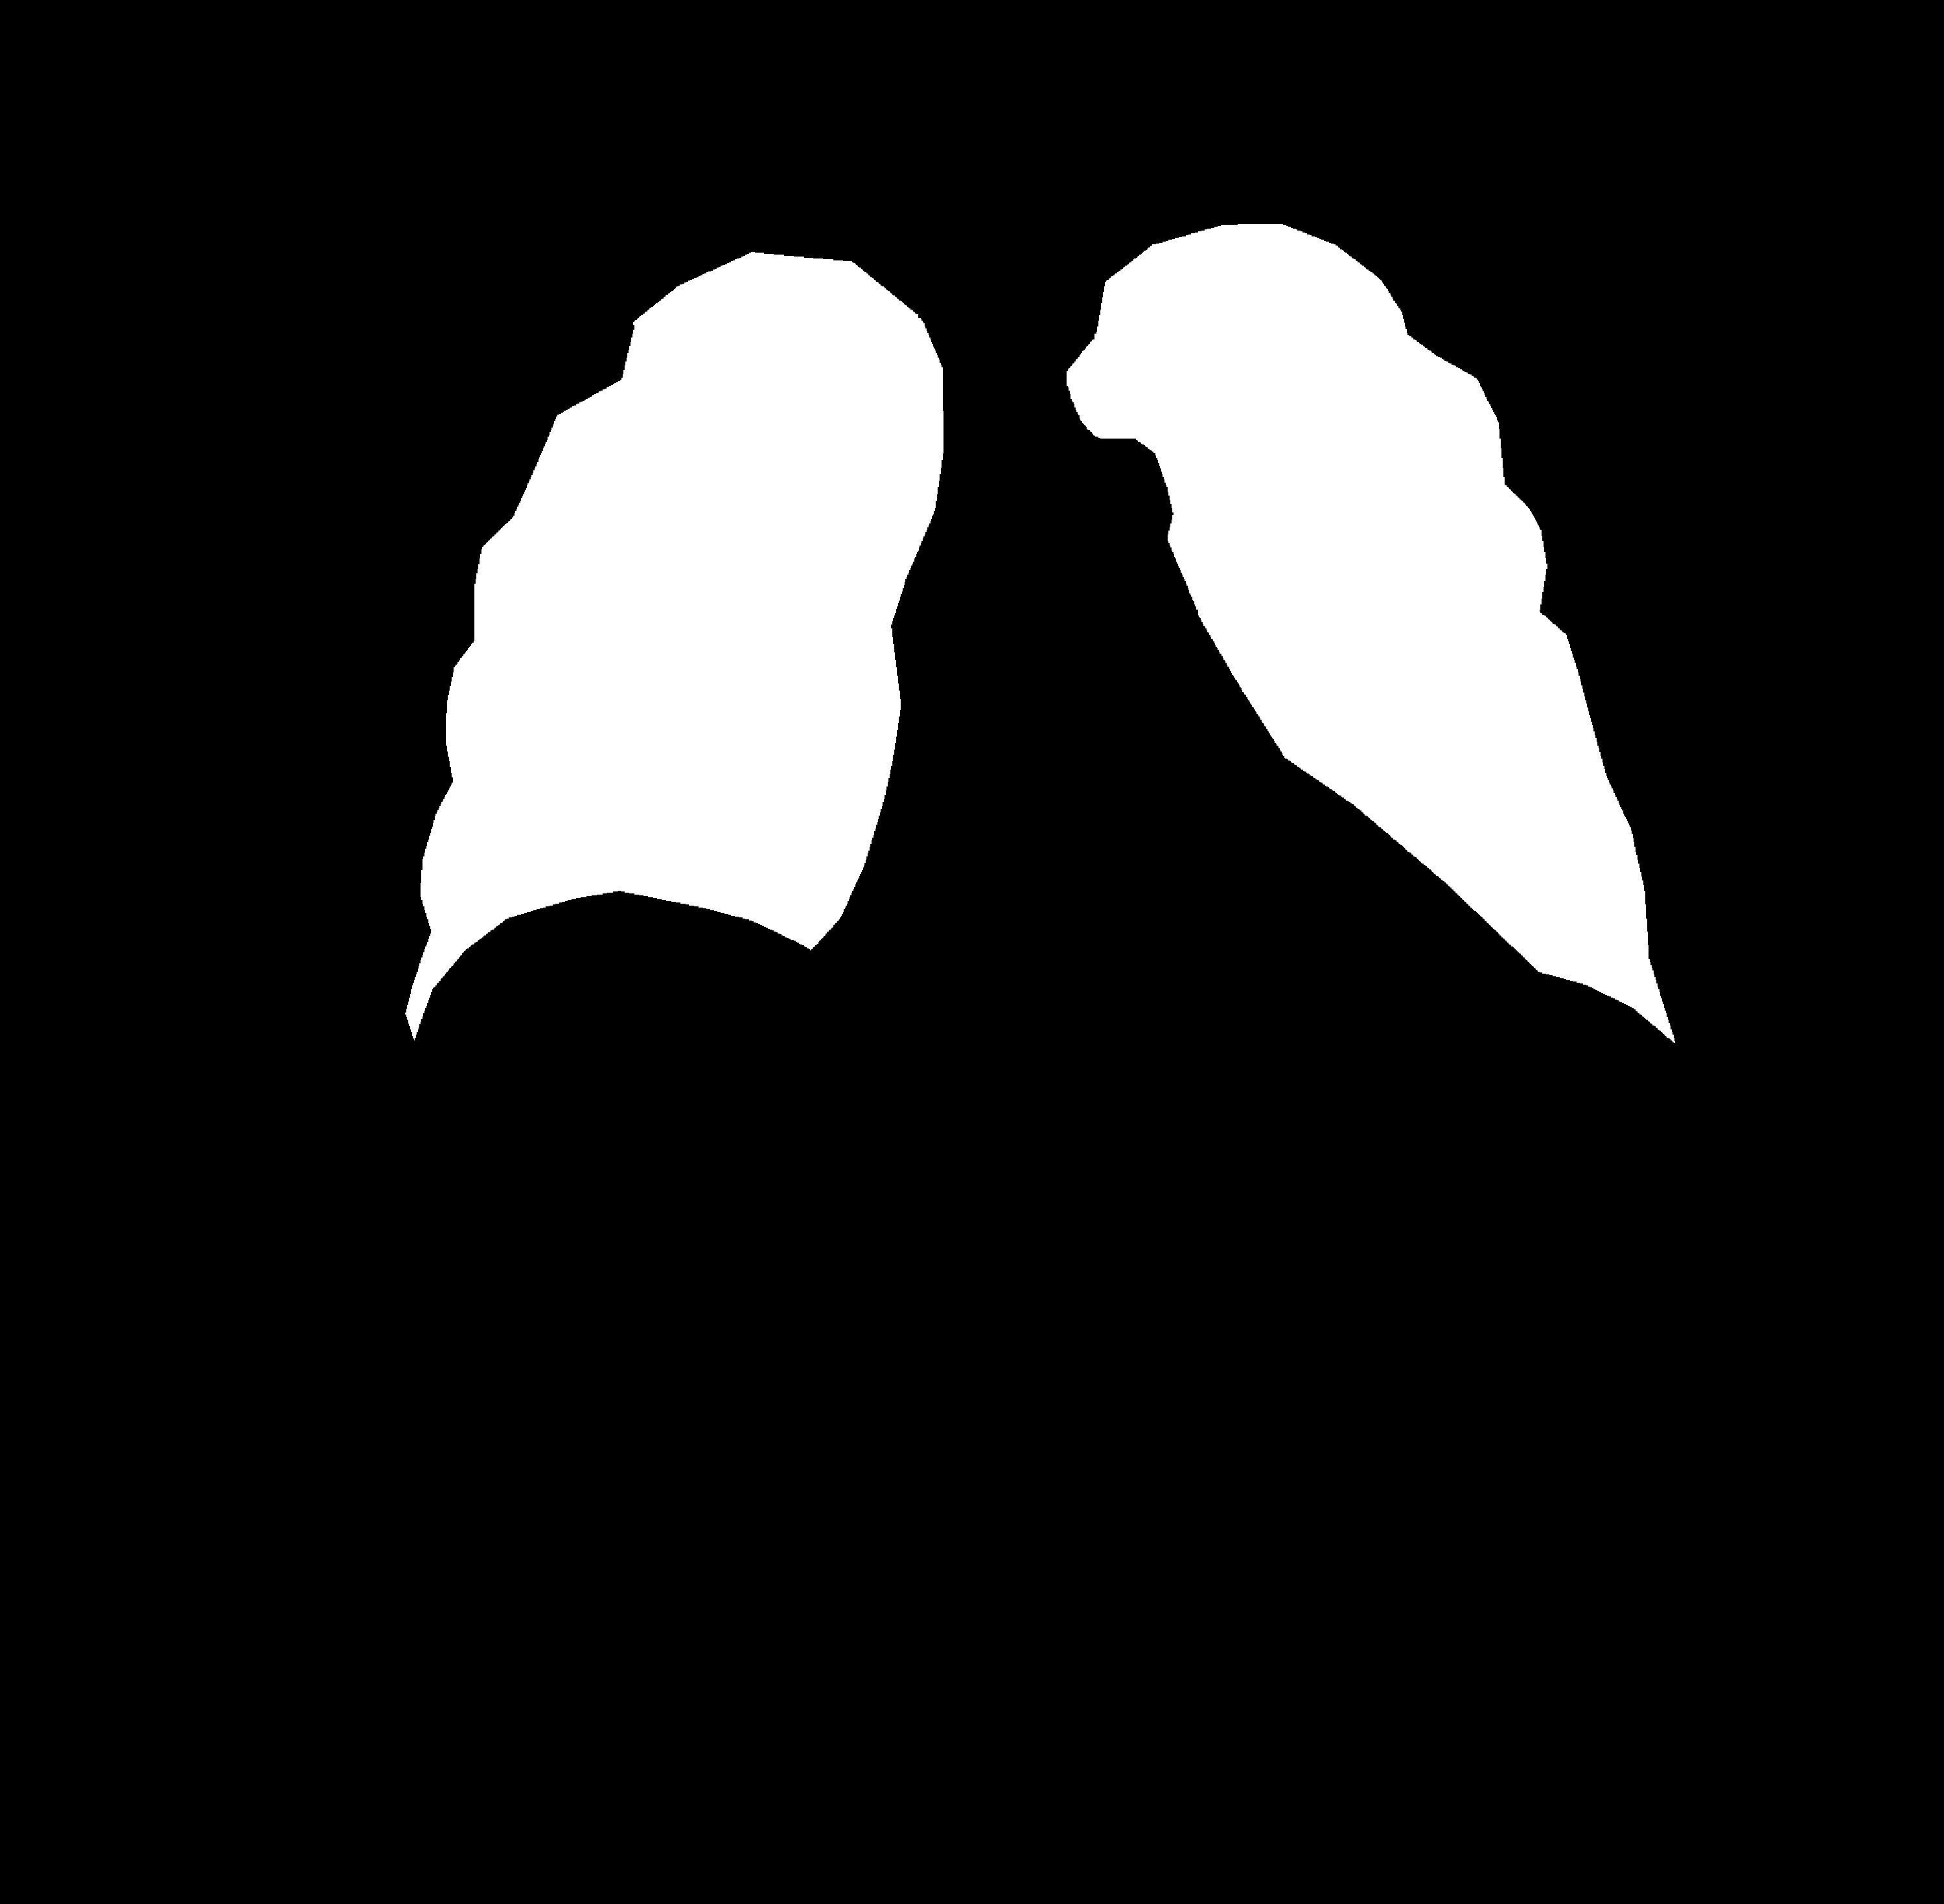heart: (818, 825, 1550, 1142)
left_lung: (404, 253, 943, 1039)
right_lung: (1067, 225, 1674, 1043)
